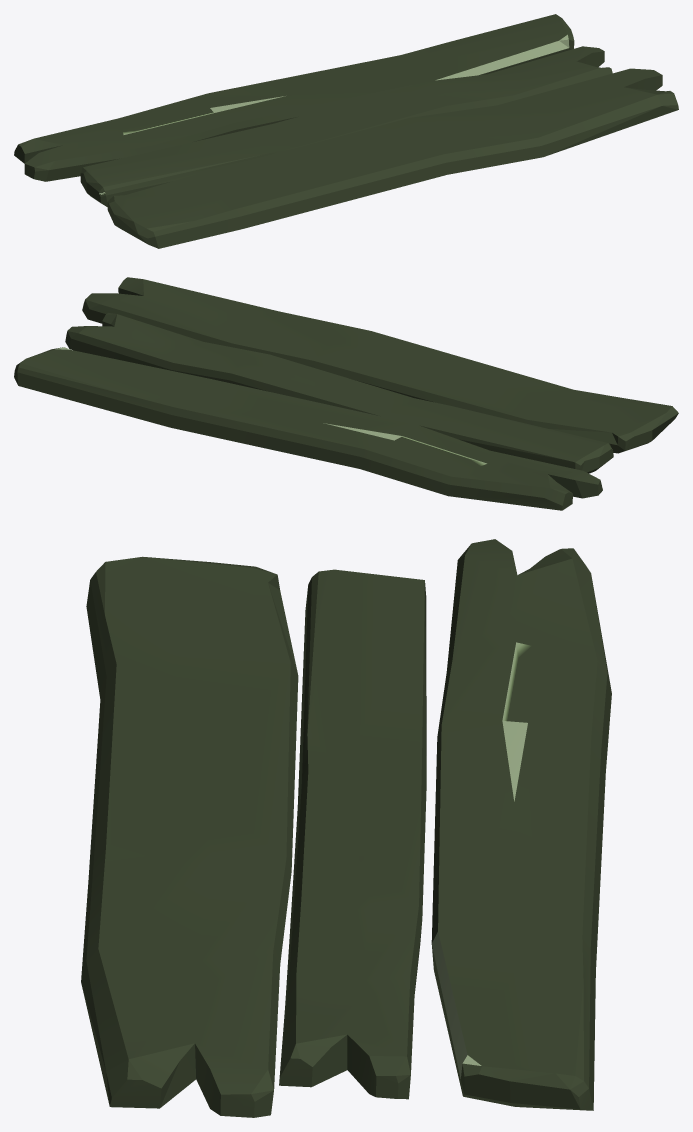
File: EA_Planks_02a.glb
3 views of the same model, one above another, from view 1: azimuth 30°, elevation 25°; view 2: azimuth 150°, elevation 25°; view 3: azimuth 270°, elevation 25° (orthographic). The views are drawn at different scales.
Parts seen in each view (by area): view 1: EA_Planks_02a; view 2: EA_Planks_02a; view 3: EA_Planks_02a.
Part boxes in pixels (x1=…): EA_Planks_02a: x1=14, y1=14, x2=678, y2=248; EA_Planks_02a: x1=14, y1=277, x2=678, y2=510; EA_Planks_02a: x1=81, y1=539, x2=611, y2=1117.
Size of the model in its own units: 1.9 by 0.0852 by 0.767.
1 material, 1 textured.
